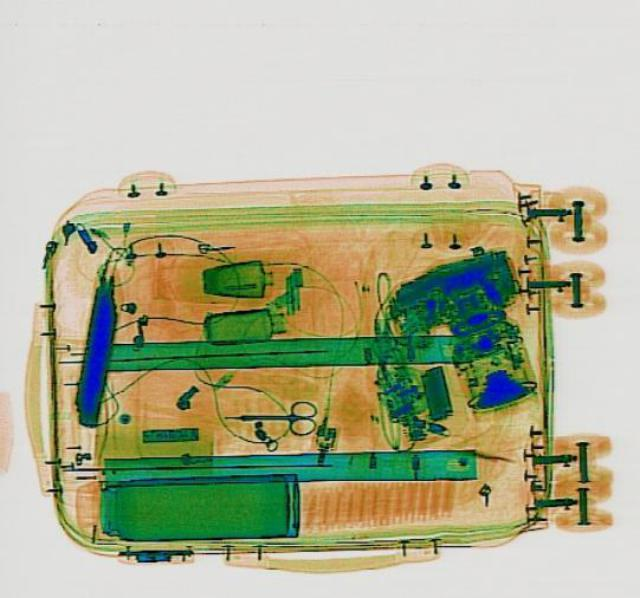Scissors: (222, 397, 318, 434)
